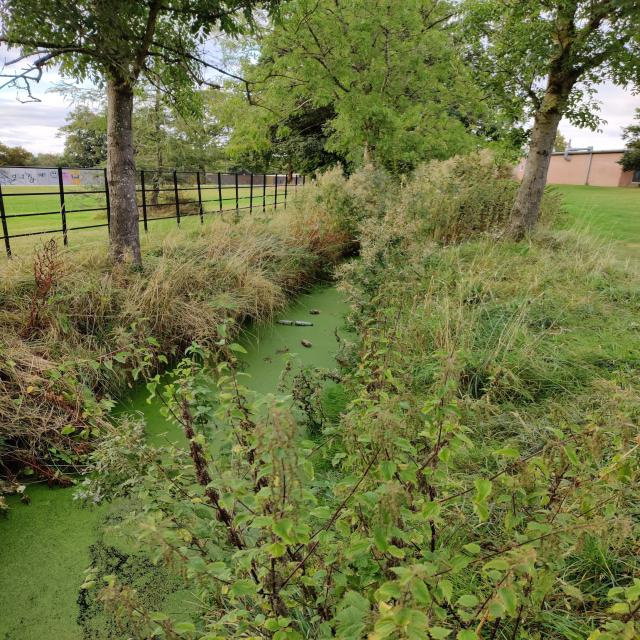litter: (271, 316, 319, 330), (295, 336, 321, 351), (305, 308, 328, 316)
